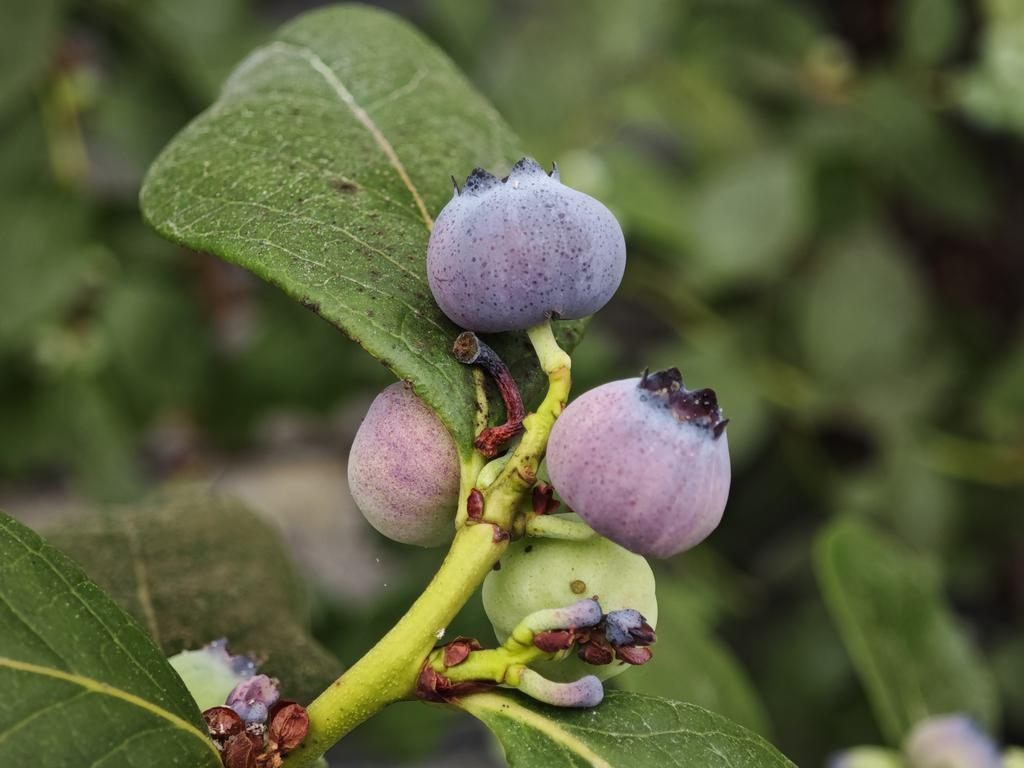RipeBlueBerry: (428, 168, 626, 326)
Semi-RipeBlueBerry: (552, 381, 736, 548)
